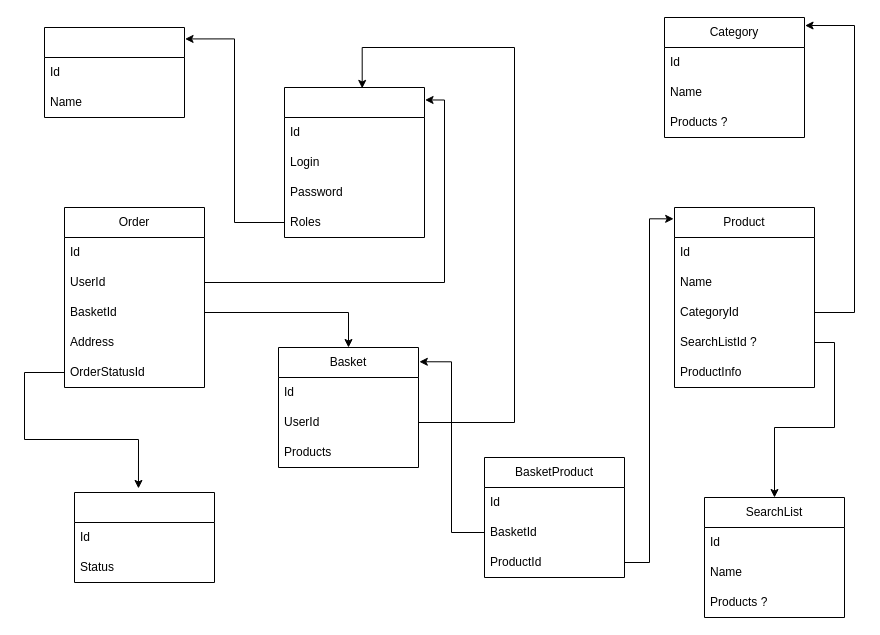
Some shapes in this 880 by 635 pixel diagram are drawn without their labels. Each missing label, with the box of its shape:
OrderStatus: (74, 492, 214, 582)
Role: (44, 26, 184, 118)
User: (284, 86, 424, 238)
